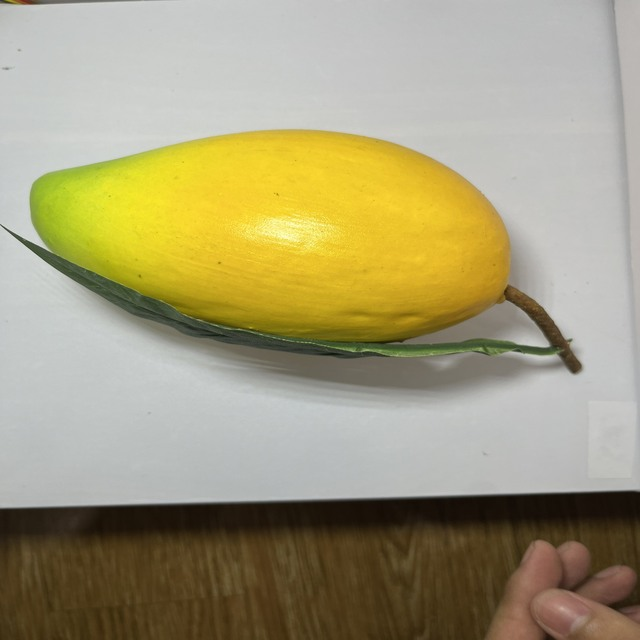Xoai: (18, 120, 525, 356)
